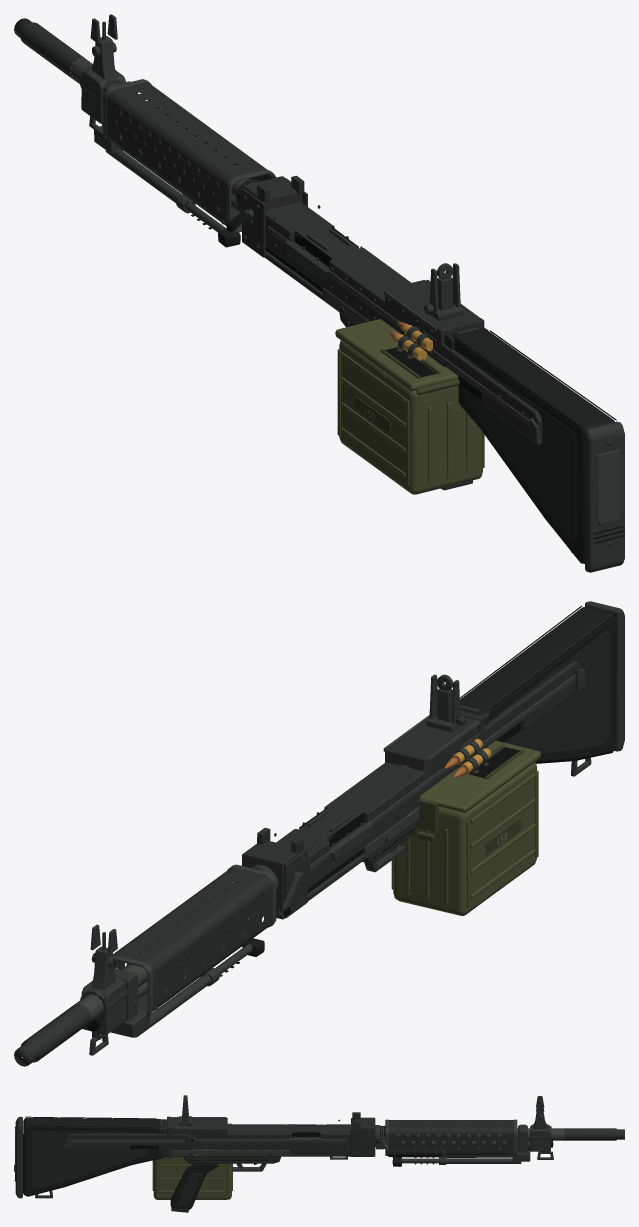
Rendered from weapon-50-DEtZ67ul.glb.
3 renders of one model, top to bottom at view 1: azimuth 30°, elevation 25°; view 2: azimuth 150°, elevation 25°; view 3: azimuth 270°, elevation 25°, orthographic. The views are drawn at different scales.
Visible parts, largest first — view 1: salient_weapon_body, salient_weapon_magazine, salient_weapon_cover, salient_weapon_iron, salient_weapon_belt; view 2: salient_weapon_body, salient_weapon_magazine, salient_weapon_cover, salient_weapon_iron, salient_weapon_belt; view 3: salient_weapon_body, salient_weapon_magazine, salient_weapon_cover, salient_weapon_iron.
Boxes of the visible parts, box(x1,y1,x2,y2) form: salient_weapon_body: box(14, 18, 624, 572); salient_weapon_magazine: box(335, 319, 484, 494); salient_weapon_cover: box(421, 327, 542, 444); salient_weapon_iron: box(90, 14, 463, 320); salient_weapon_belt: box(389, 321, 432, 360); salient_weapon_body: box(14, 601, 624, 1066); salient_weapon_magazine: box(391, 740, 540, 915); salient_weapon_cover: box(458, 661, 586, 767); salient_weapon_iron: box(90, 674, 466, 954); salient_weapon_belt: box(444, 738, 491, 777); salient_weapon_body: box(14, 1111, 624, 1212); salient_weapon_magazine: box(152, 1123, 232, 1199); salient_weapon_cover: box(64, 1120, 195, 1149); salient_weapon_iron: box(179, 1095, 544, 1125).
Size of the model in its own units: 0.1099 by 0.206 by 1.01.
